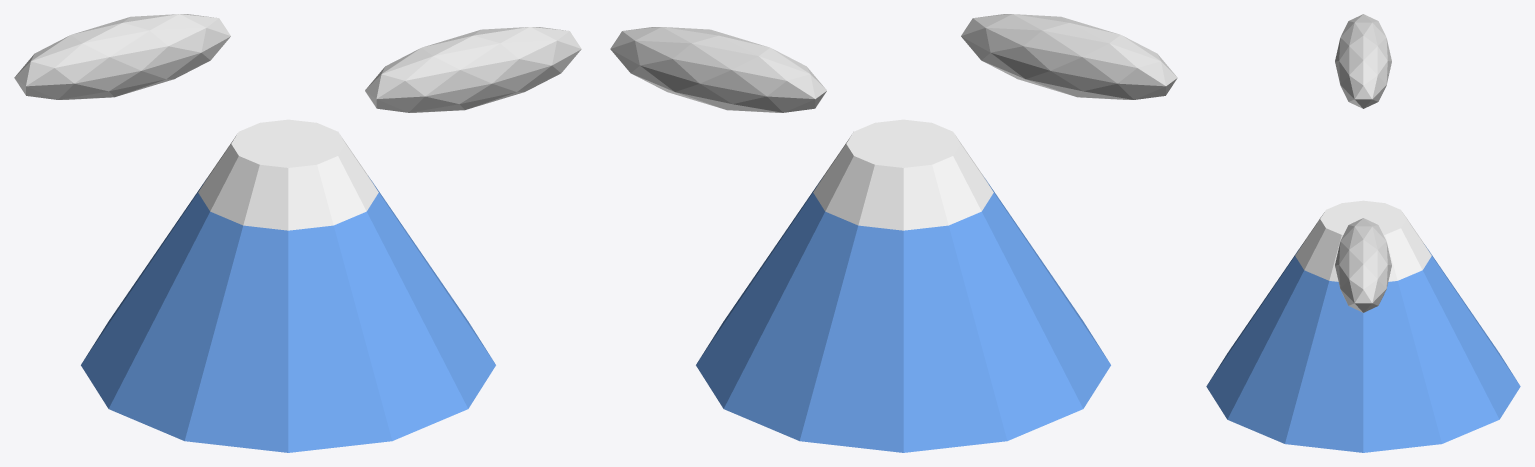
File: mountain.glb
3 renders of one model, left to right at view 1: azimuth 30°, elevation 25°; view 2: azimuth 150°, elevation 25°; view 3: azimuth 270°, elevation 25°, orthographic. The views are drawn at different scales.
Parts seen in each view (by area): view 1: ICO球; view 2: ICO球; view 3: ICO球.
Part boxes in pixels (x1,y1,x2,y2): ICO球: (14, 14, 581, 452); ICO球: (610, 14, 1177, 452); ICO球: (1206, 14, 1520, 452).
Bounding box in the file's own units: 3.4 × 2.24 × 2.2.
